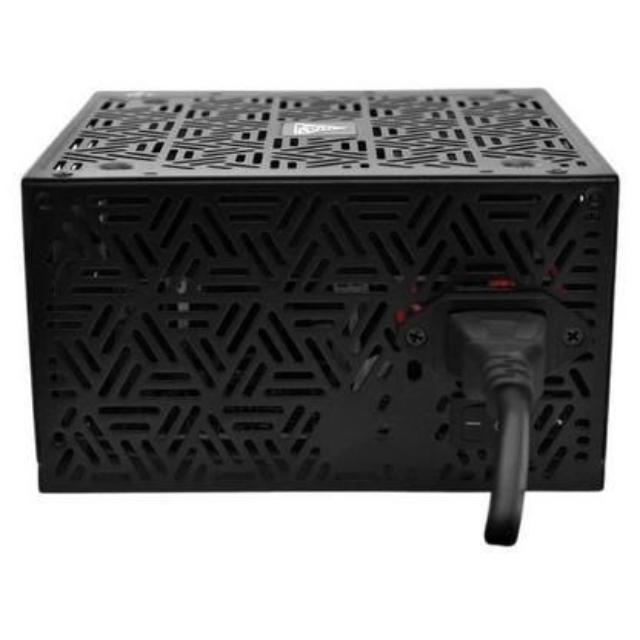PSU: (13, 82, 622, 520)
